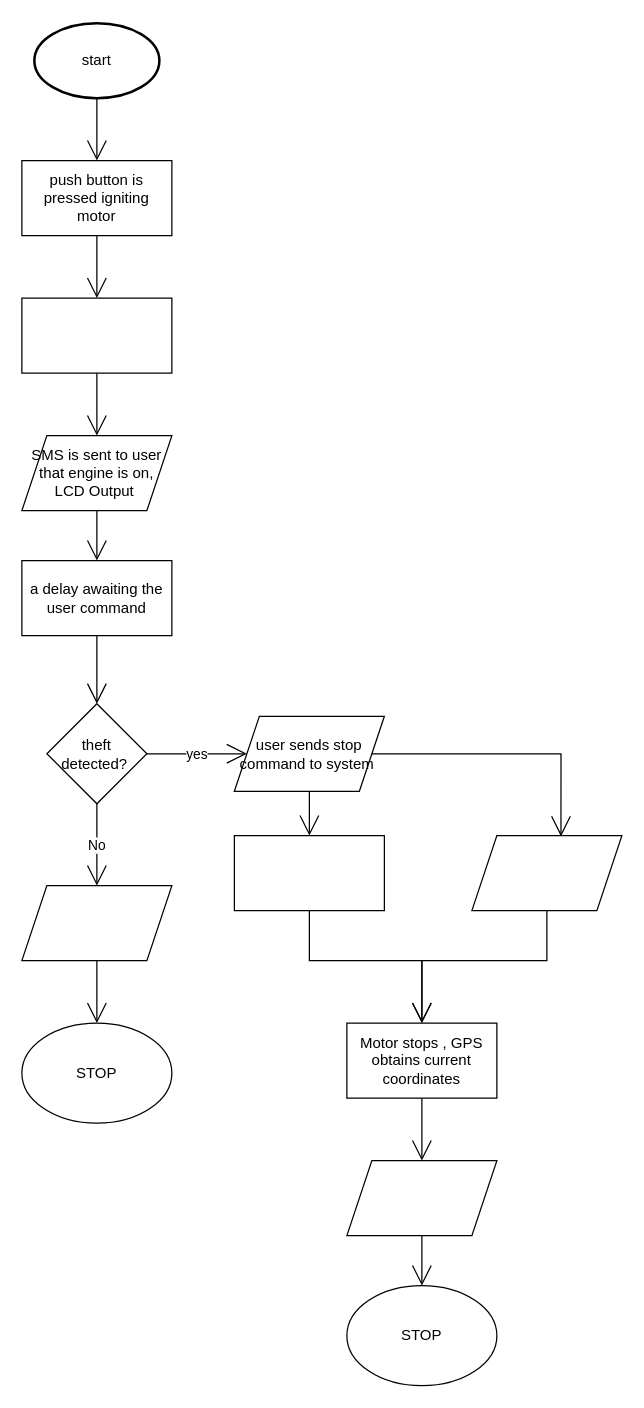
This 644x1408 diagram has some shape labels left out. Here are the shapes that lost their labels. From the top down, the centre of each, then its label:
At (96,335): "Initialising system, GPS gets coordinates".
At (308,872): "relay cuts power to engine bypass to pushbutton still on".
At (546,872): "buzzer siren starts signaling the theft".
At (96,922): "LCD and GSM output to proceed".
At (421,1197): "GSM sends the coordinates to user to retrieve vehicle".
